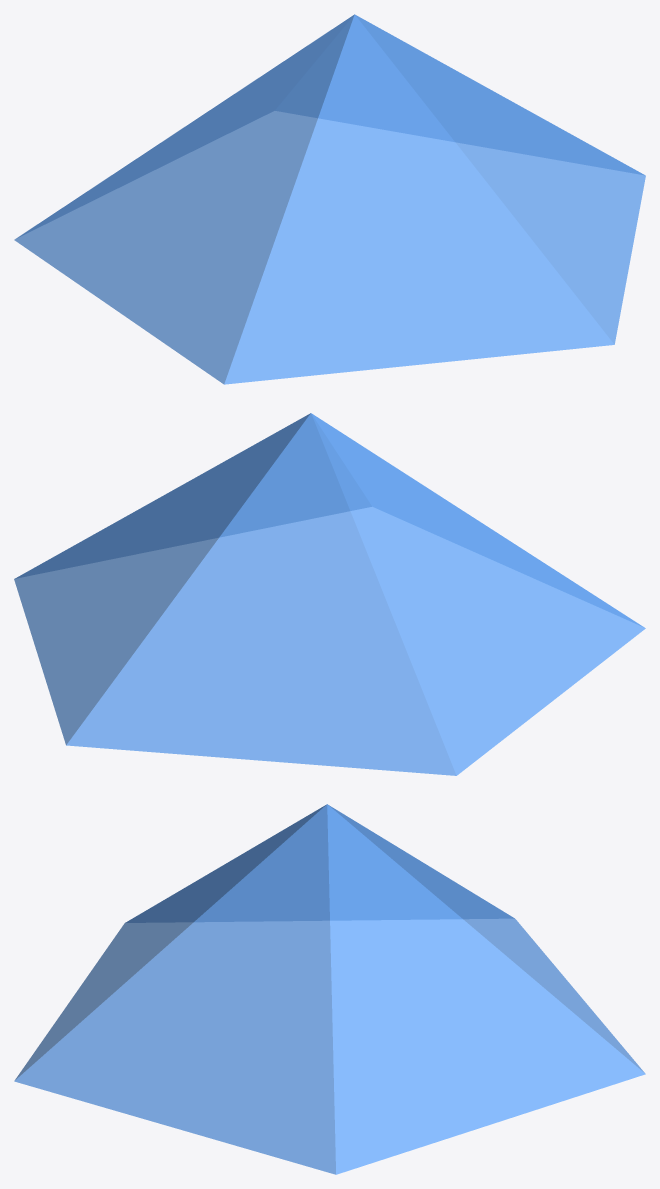
The model's file is gem2.fbx.
3 renders of one model, top to bottom at view 1: azimuth 30°, elevation 25°; view 2: azimuth 150°, elevation 25°; view 3: azimuth 270°, elevation 25°, orthographic. The views are drawn at different scales.
Visible parts, largest first — view 1: Crystals_s_01; view 2: Crystals_s_01; view 3: Crystals_s_01.
Boxes of the visible parts, x1=… form: Crystals_s_01: x1=14, y1=14, x2=645, y2=384; Crystals_s_01: x1=14, y1=413, x2=645, y2=775; Crystals_s_01: x1=14, y1=804, x2=645, y2=1174.
Bounding box in the file's own units: 8.34 × 3.5 × 8.69.
